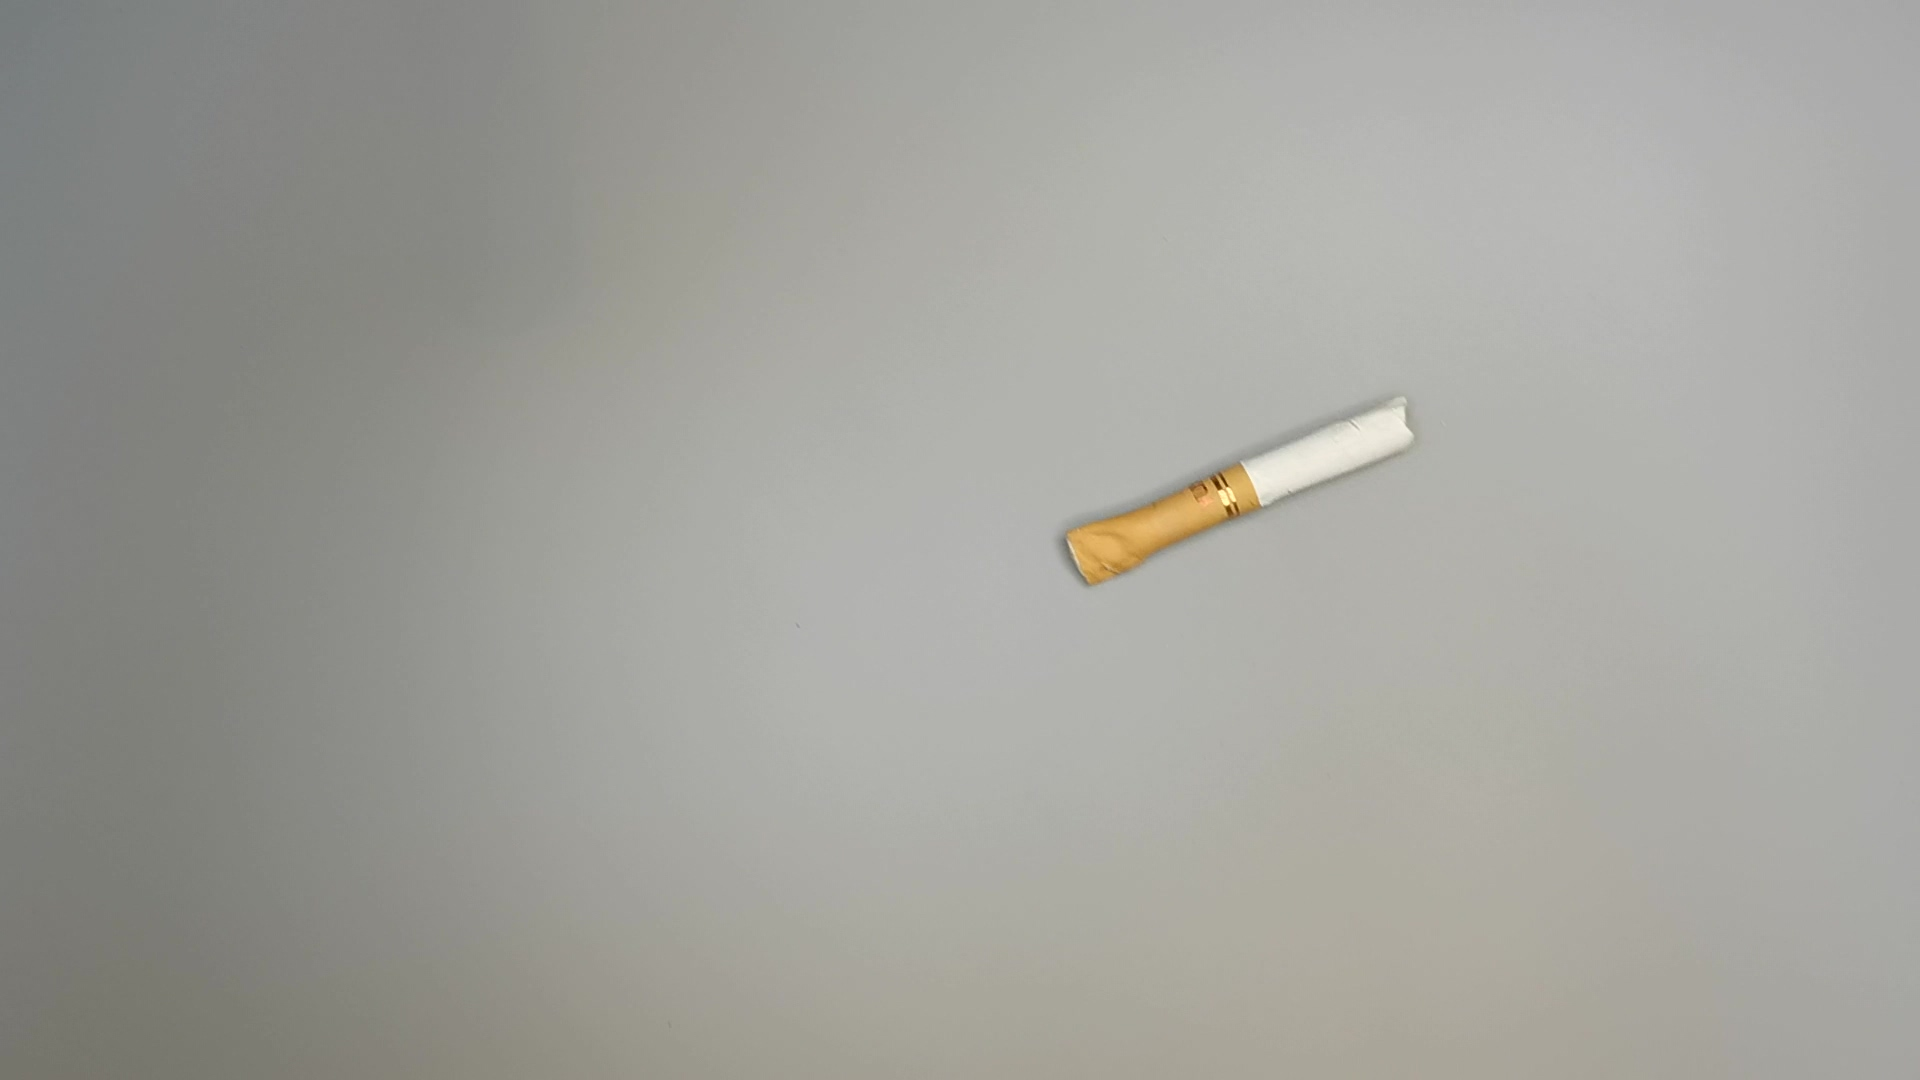cigarette: (1044, 389, 1433, 597)
